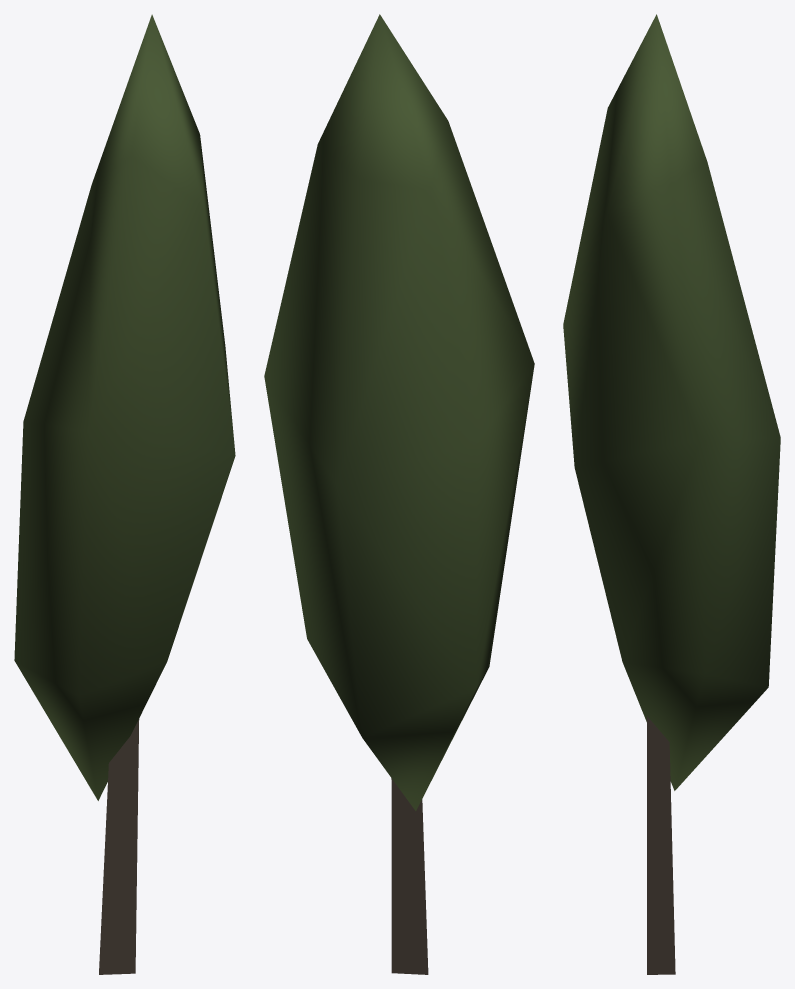
File: tall_columnar_lod1.glb
The picture shows the model from 3 angles, left to right: view 1: azimuth 30°, elevation 25°; view 2: azimuth 150°, elevation 25°; view 3: azimuth 270°, elevation 25°; orthographic projection. The views are drawn at different scales.
Visible parts, largest first — view 1: tall_columnar_LOD1; view 2: tall_columnar_LOD1; view 3: tall_columnar_LOD1.
Part boxes in pixels (x1=…): tall_columnar_LOD1: x1=14, y1=14, x2=235, y2=974; tall_columnar_LOD1: x1=264, y1=14, x2=534, y2=974; tall_columnar_LOD1: x1=563, y1=14, x2=780, y2=974.
Bounding box in the file's own units: 2.98 × 12.76 × 2.59.
